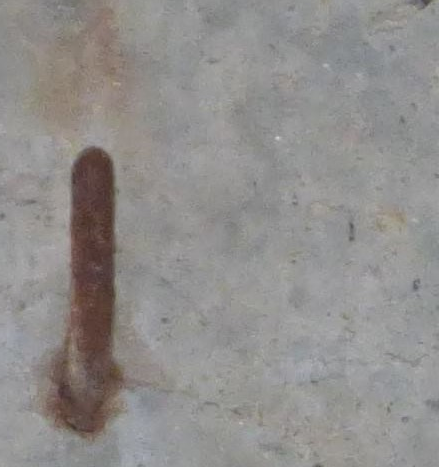Exposed reinforcement: (69, 145, 116, 413)
